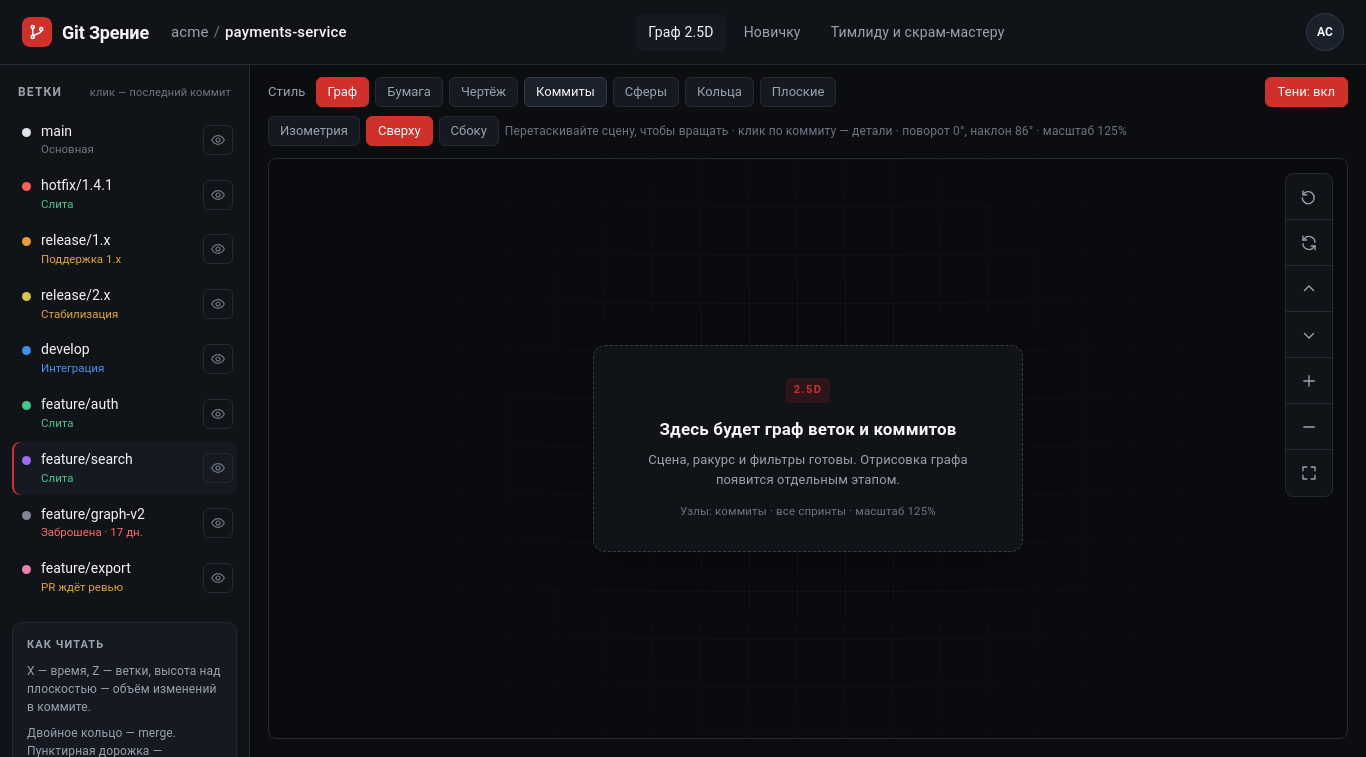
Test: Graph › управляет ракурсом, масштабом и полноэкранным режимом
The image size is (1366, 757).
Earlier steps of the test are not shown.
Expected: the text "Узлы: коммиты · все спринты · масштаб 125%" is shown, [680,504,936,518]
Click the button named "Отдалить" at [1309, 427], box [1286,404,1332,450]
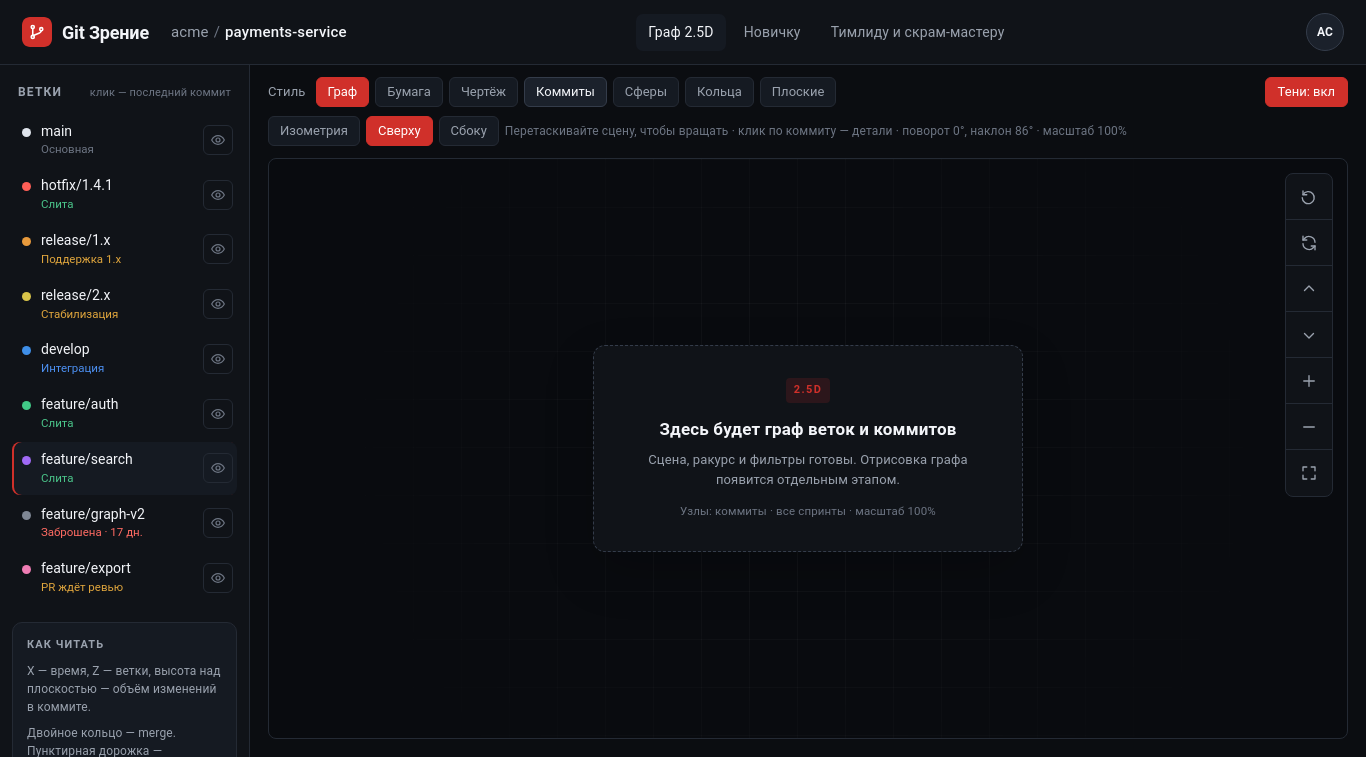
Expected: the text "Узлы: коммиты · все спринты · масштаб 100%" is shown, [680,504,936,518]
Click the button named "Повернуть камеру вниз" at [1309, 335], box [1286,312,1332,358]
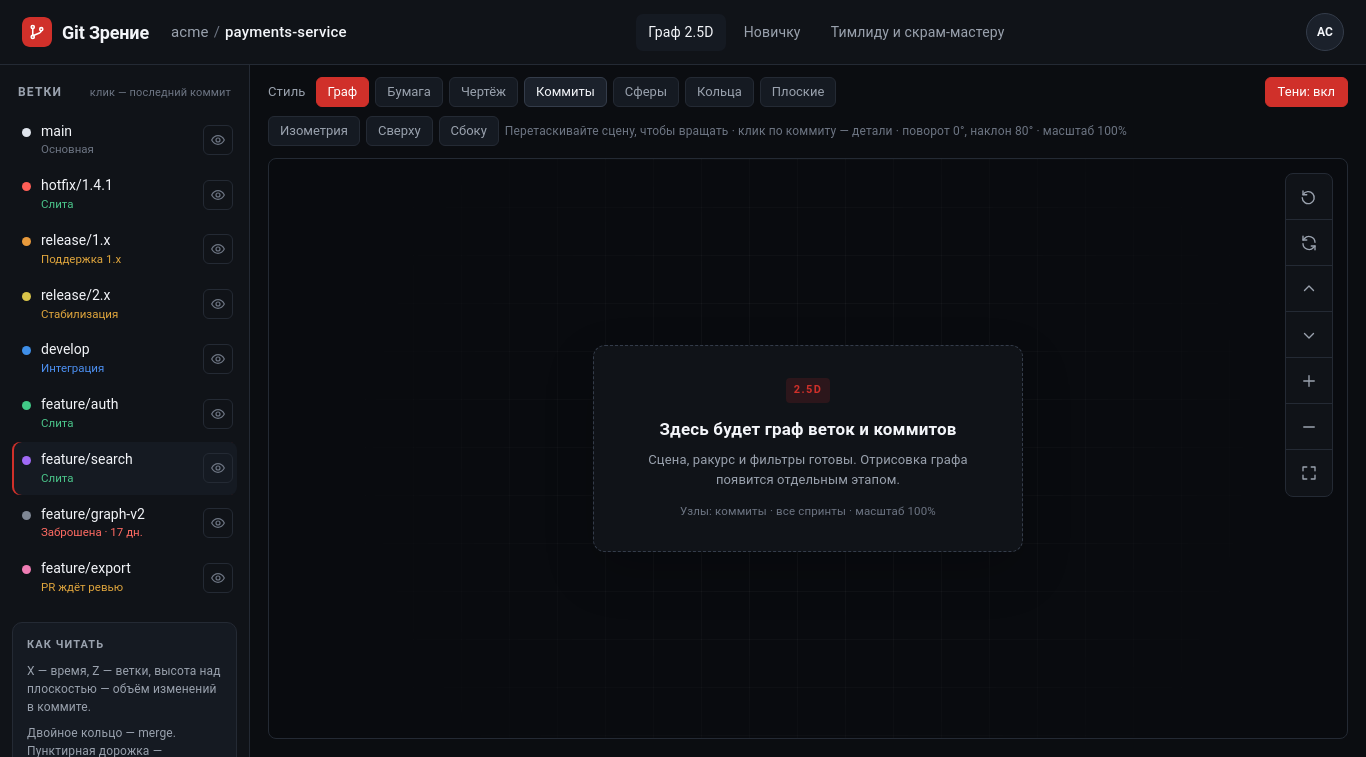
Expected: the text "наклон 80°" is shown, [505,124,1127,138]
Click the button named "Сбросить ракурс" at [1309, 197], box [1286,174,1332,220]
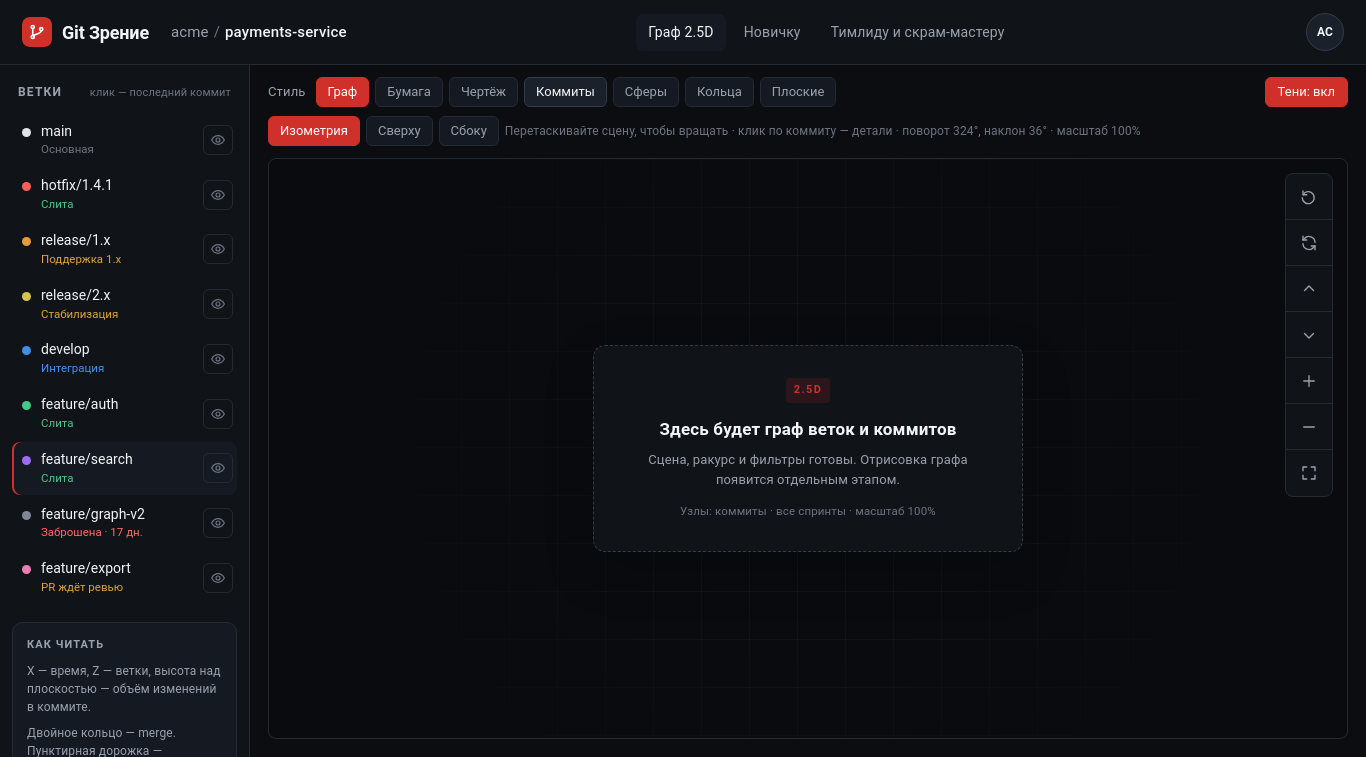
Expected: the text "поворот 324°, наклон 36°" is shown, [505,124,1141,138]
Click the button named "Повернуть камеру вверх" at [1309, 289], box [1286,266,1332,312]
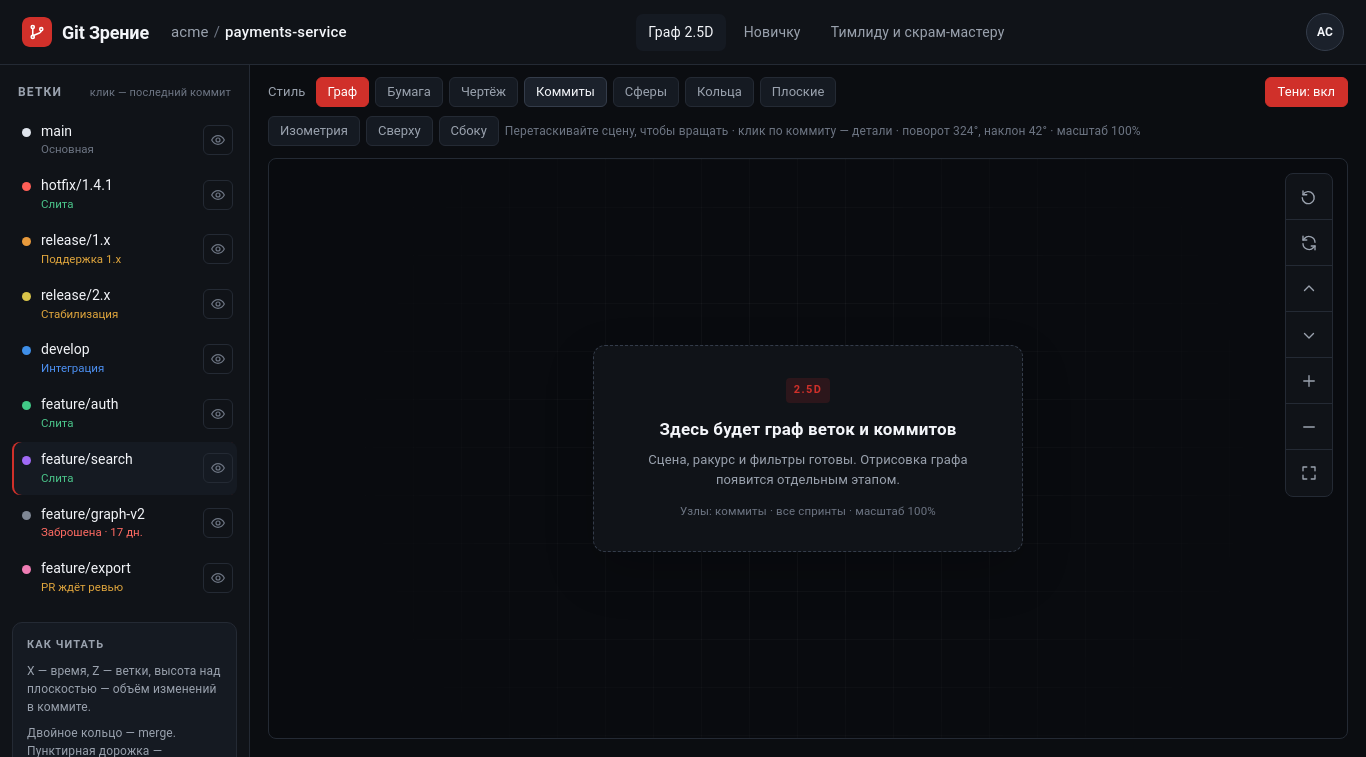
Expected: the text "наклон 42°" is shown, [505,124,1141,138]
Click the button named "Развернуть сцену" at [1309, 473], box [1286,450,1332,496]
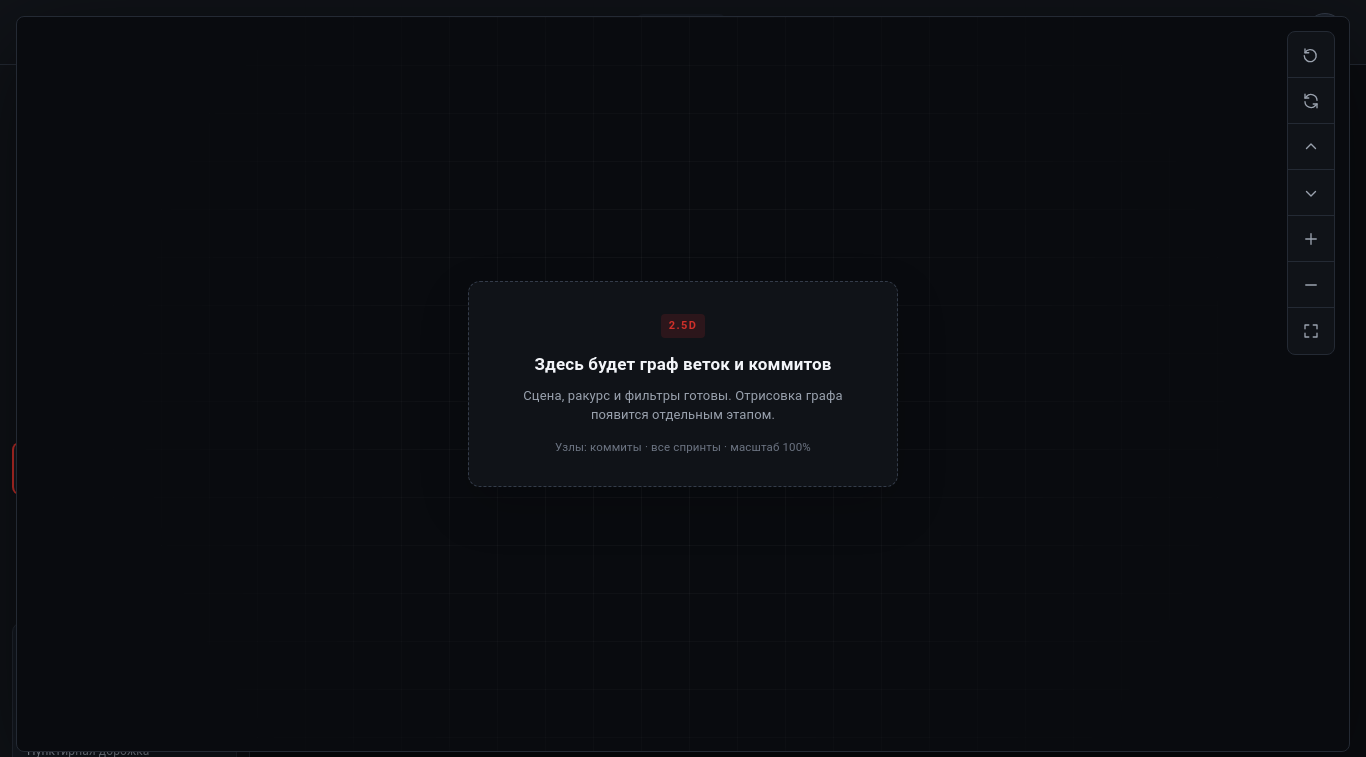
Expected: the element with class "graph-stage" has class "graph-stage--expanded"
Click the button named "Свернуть сцену" at [1311, 331], box [1288,308,1334,354]
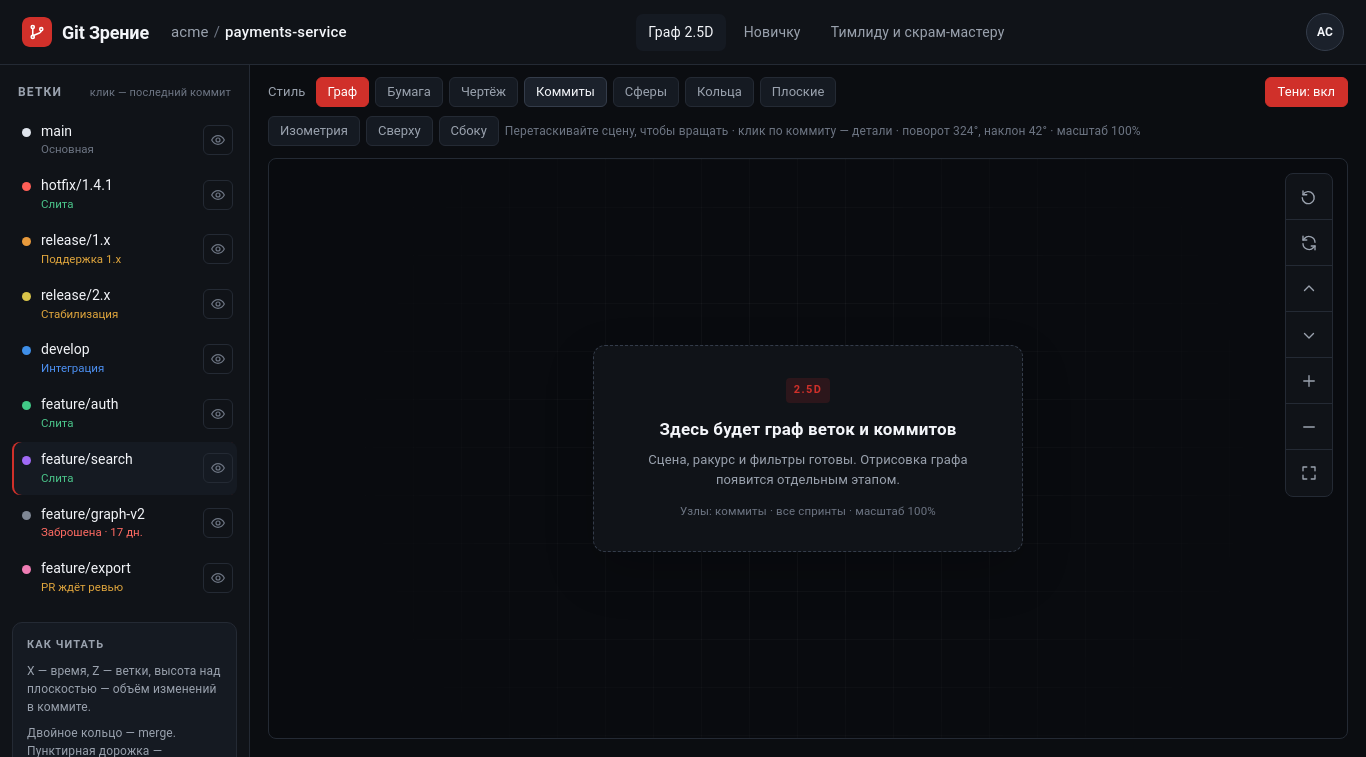
Expected: the element with class "graph-stage" does not have class "graph-stage--expanded"
